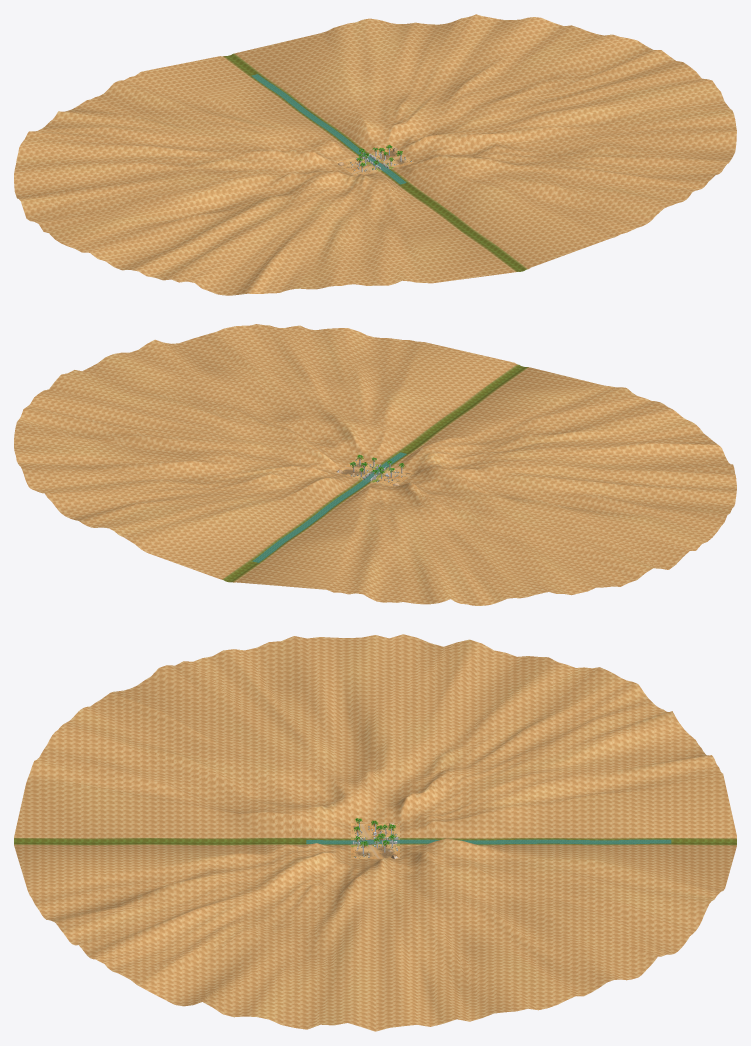
File: river-ford.glb
The picture shows the model from 3 angles, top to bottom: view 1: azimuth 30°, elevation 25°; view 2: azimuth 150°, elevation 25°; view 3: azimuth 270°, elevation 25°; orthographic projection. The views are drawn at different scales.
Parts seen in each view (by area): view 1: ground_far, water.river, ground; view 2: ground_far, water.river, ground; view 3: ground_far, water.river, ground.
Boxes of the visible parts, x1,y1,x2,y2 form: ground_far: (14,14,736,295); water.river: (251,74,406,184); ground: (337,148,413,175); ground_far: (14,324,736,605); water.river: (252,452,406,562); ground: (337,458,413,486); ground_far: (14,634,736,1031); water.river: (306,839,671,844); ground: (351,823,399,858).
Size of the model in its own units: 988 by 20.9 by 772.
Materials: 19 (13 with a texture image).
